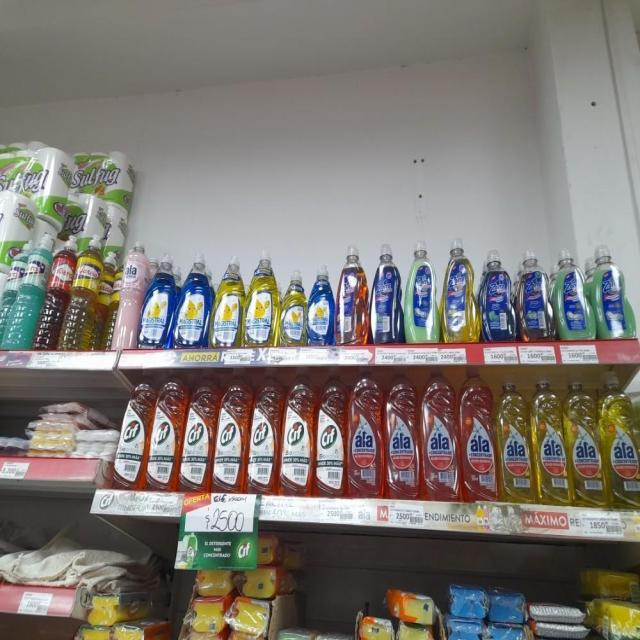ala_conc_amarillo: (603, 372, 640, 510), (568, 375, 603, 509), (533, 376, 567, 506), (497, 375, 531, 503)
ala_conc_rojo: (421, 369, 459, 503), (460, 368, 496, 503), (384, 370, 420, 500), (348, 372, 382, 499)
cif_conc_botella_roja: (280, 370, 314, 498), (316, 369, 346, 498), (248, 372, 279, 496), (214, 378, 247, 494), (113, 386, 147, 492), (148, 382, 179, 492), (181, 385, 212, 494)
magistral_con_amarillo: (245, 247, 278, 348), (213, 252, 243, 350), (280, 266, 306, 348)
magistral_con_azul: (177, 249, 210, 349), (308, 261, 334, 347)
